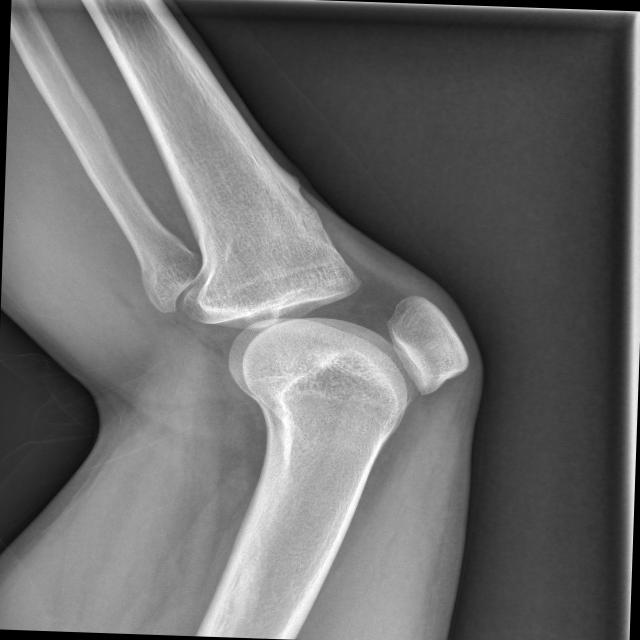Knee: (168, 241, 477, 423)
